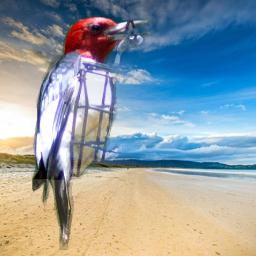Woodpecker: (32, 14, 154, 250)
